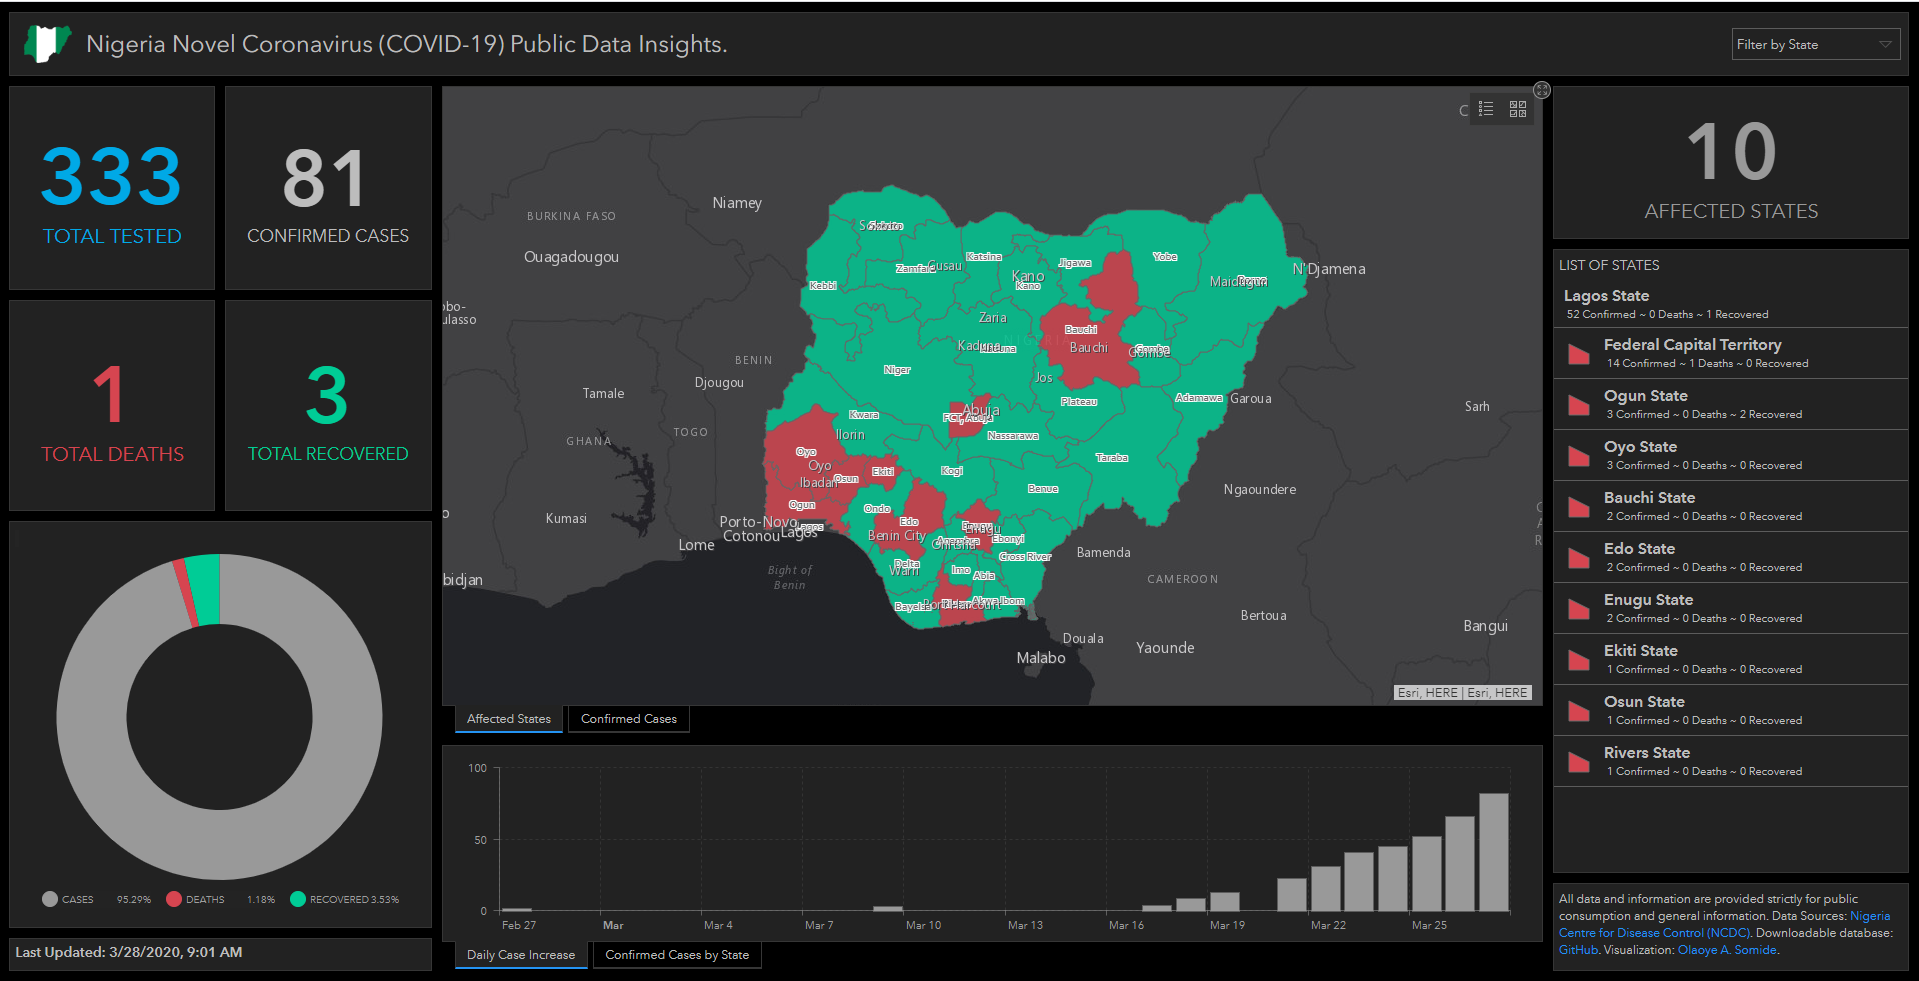

The page's visual inventory and layout, read from the dashboard file:
{"tool":"powerbi","page":{"name":"Data Insights","canvas":[1280,720],"ordinal":0},"visuals":[{"type":"filledMap","title":"MAP VIEW","fields":{"Category":["ncdc-covid19-states.ADMIN_NAME","ncdc-covid19-dailyupdates.Date"],"Series":["ncdc-covid19-states.CASES"]},"box":[286.3,62.2,700.4,472.8],"z":0},{"type":"donutChart","title":"CASES BY STATE","fields":{"Y":["Sum(ncdc-covid19-states.CASES)","Sum(ncdc-covid19-states.RECOVERED)","Sum(ncdc-covid19-states.DEATHS)"]},"box":[11.4,441.3,266.2,265.3],"z":1000},{"type":"areaChart","fields":{"Category":["ncdc-covid19-dailyupdates.Date"],"Y":["Sum(ncdc-covid19-dailyupdates.Deaths)","Sum(ncdc-covid19-dailyupdates.Recoveries)","Sum(ncdc-covid19-dailyupdates.Total Confirmed)"]},"box":[286.3,544.6,700.4,162],"z":2000},{"type":"card","fields":{"Values":["Sum(ncdc-covid19-states.CASES)"]},"box":[11.4,62.2,266.2,117.3],"z":3000},{"type":"textbox","box":[11.4,6.1,1250.2,48.2],"z":4000},{"type":"card","fields":{"Values":["Sum(ncdc-covid19-states.RECOVERED)"]},"box":[11.4,188.2,266.2,117.3],"z":6000},{"type":"card","fields":{"Values":["Sum(ncdc-covid19-states.DEATHS)"]},"box":[11.4,314.3,266.2,117.3],"z":7000},{"type":"textbox","box":[995.5,658.4,266.2,48.2],"z":8000},{"type":"barChart","title":"LIST OF STATES","fields":{"Category":["ncdc-covid19-states.STATE"],"Y":["Sum(ncdc-covid19-states.CASES)"]},"box":[995.8,62.1,265.8,589.3],"z":9000}]}

Visuals, with their boxes on the page's 1280x720 design canvas (x1, y1, x2, y2). These are canvas units, not pixel positions in the 1919x981 screenshot, which may show the page scaled, cropped or inside an application window:
"MAP VIEW" filledMap: region(286, 62, 987, 535)
"CASES BY STATE" donutChart: region(11, 441, 278, 707)
areaChart - ncdc-covid19-dailyupdates.Date x Sum(ncdc-covid19-dailyupdates.Deaths): region(286, 545, 987, 707)
card - Sum(ncdc-covid19-states.CASES): region(11, 62, 278, 180)
textbox: region(11, 6, 1262, 54)
card - Sum(ncdc-covid19-states.RECOVERED): region(11, 188, 278, 306)
card - Sum(ncdc-covid19-states.DEATHS): region(11, 314, 278, 432)
textbox: region(996, 658, 1262, 707)
"LIST OF STATES" barChart: region(996, 62, 1262, 651)
